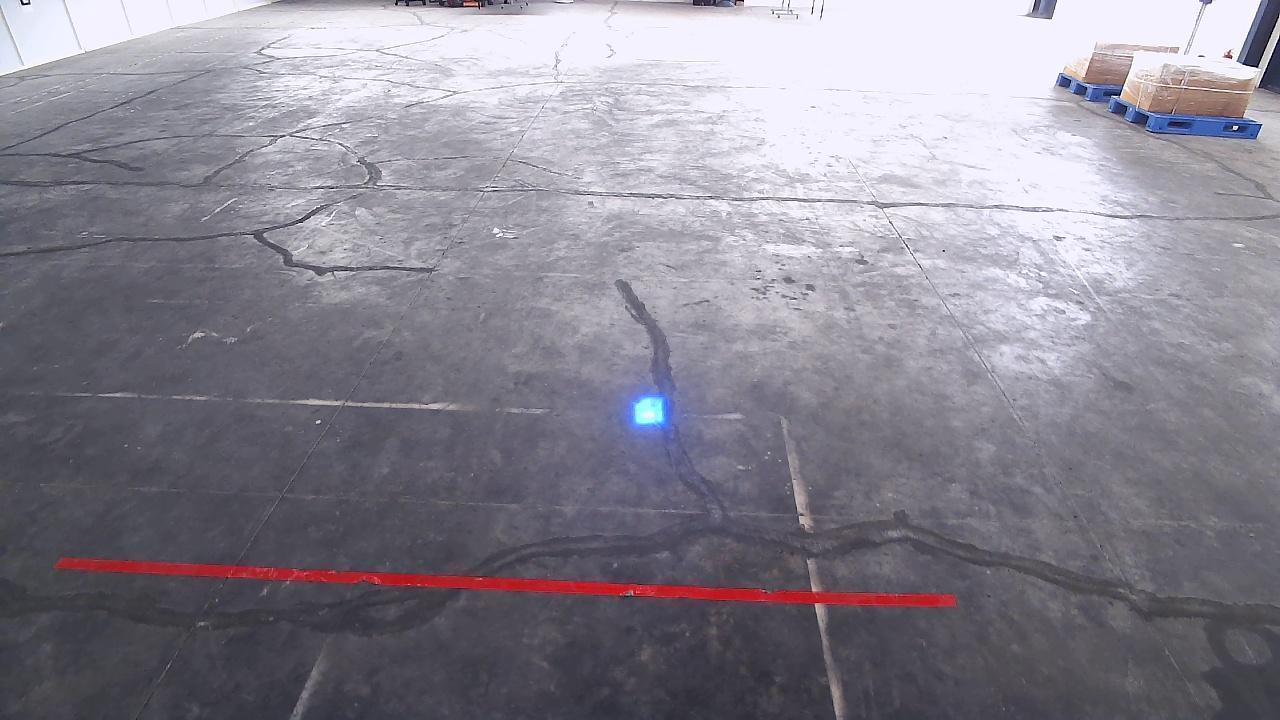red_line: (57, 556, 955, 605)
